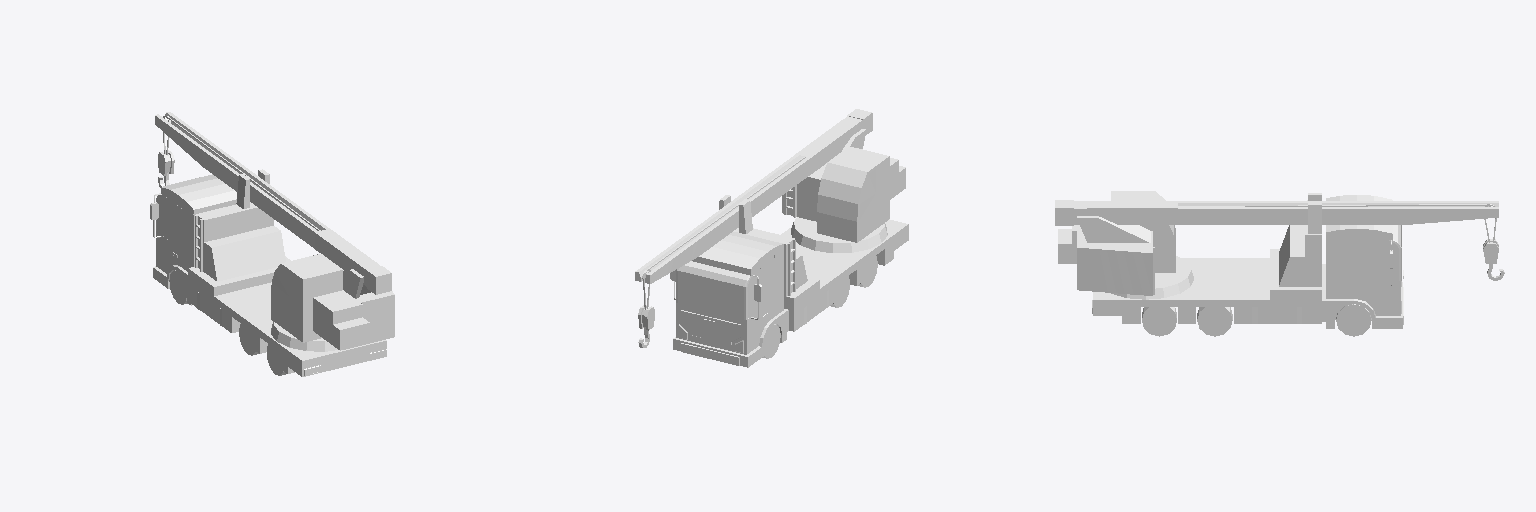
Rendered from CraneTruck.obj.
3 views of the same model, side by side, from view 1: azimuth 30°, elevation 25°; view 2: azimuth 150°, elevation 25°; view 3: azimuth 270°, elevation 25° (orthographic).
Visible parts, largest first — view 1: crane_truck_02_Mesh.002; view 2: crane_truck_02_Mesh.002; view 3: crane_truck_02_Mesh.002.
Part boxes in pixels (x1,y1,x2,y2): crane_truck_02_Mesh.002: (150,112,394,376); crane_truck_02_Mesh.002: (635,109,908,367); crane_truck_02_Mesh.002: (1055,191,1504,336).
Bounding box in the file's own units: 0.9941 × 1.24 × 3.91.